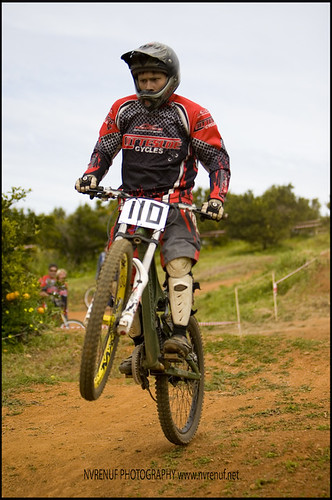helmet: (119, 40, 181, 109)
